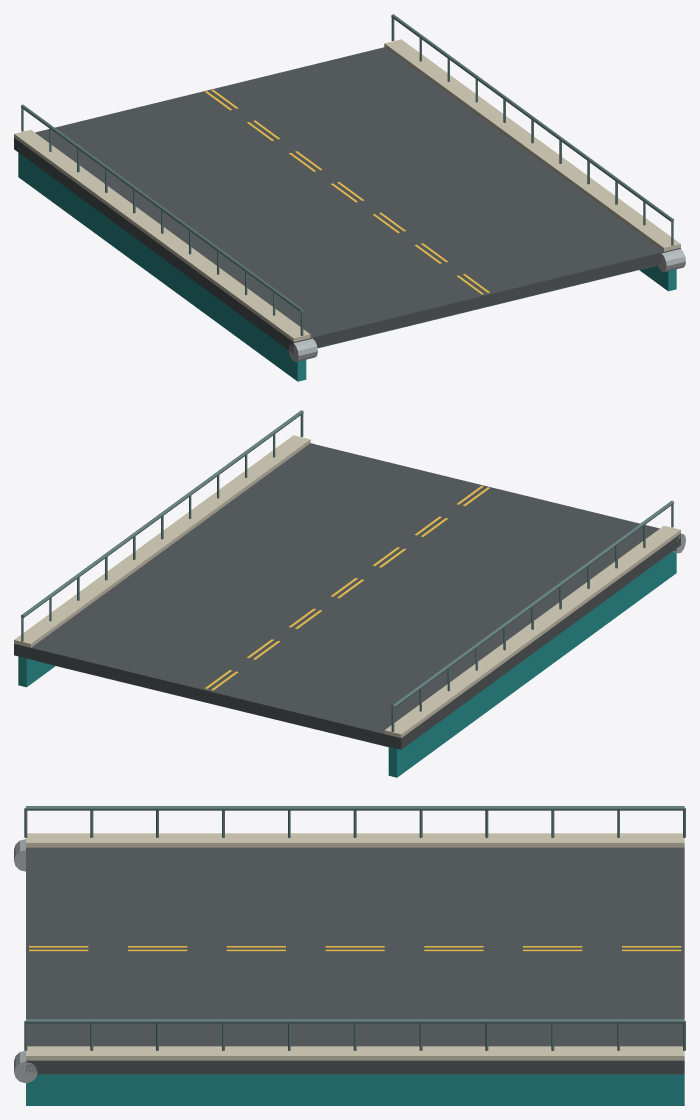
File: bridge-leaf-s05.glb
3 views of the same model, one above another, from view 1: azimuth 30°, elevation 25°; view 2: azimuth 150°, elevation 25°; view 3: azimuth 270°, elevation 25° (orthographic). The views are drawn at different scales.
Visible parts, largest first — view 1: bridge-leaf_asphalt, bridge-leaf_stone, bridge-leaf_teal, bridge-leaf_steel, bridge-leaf_yellow, bridge-leaf_silver; view 2: bridge-leaf_asphalt, bridge-leaf_stone, bridge-leaf_teal, bridge-leaf_steel, bridge-leaf_yellow; view 3: bridge-leaf_asphalt, bridge-leaf_teal, bridge-leaf_stone, bridge-leaf_steel, bridge-leaf_yellow, bridge-leaf_silver.
Boxes of the visible parts, x1=… form: bridge-leaf_asphalt: x1=14, y1=47, x2=680, y2=353; bridge-leaf_stone: x1=14, y1=39, x2=680, y2=342; bridge-leaf_teal: x1=18, y1=152, x2=676, y2=381; bridge-leaf_steel: x1=21, y1=14, x2=673, y2=348; bridge-leaf_yellow: x1=205, y1=89, x2=489, y2=294; bridge-leaf_silver: x1=288, y1=249, x2=685, y2=361; bridge-leaf_asphalt: x1=14, y1=443, x2=680, y2=749; bridge-leaf_stone: x1=14, y1=435, x2=680, y2=738; bridge-leaf_teal: x1=18, y1=551, x2=676, y2=777; bridge-leaf_steel: x1=21, y1=410, x2=673, y2=746; bridge-leaf_yellow: x1=205, y1=485, x2=489, y2=690; bridge-leaf_asphalt: x1=26, y1=847, x2=684, y2=1074; bridge-leaf_teal: x1=26, y1=1074, x2=684, y2=1105; bridge-leaf_stone: x1=26, y1=833, x2=684, y2=1060; bridge-leaf_steel: x1=24, y1=806, x2=685, y2=1050; bridge-leaf_yellow: x1=29, y1=946, x2=681, y2=951; bridge-leaf_silver: x1=14, y1=839, x2=37, y2=1082.
Bounding box in the file's own units: 16 × 2.82 × 20.41.
